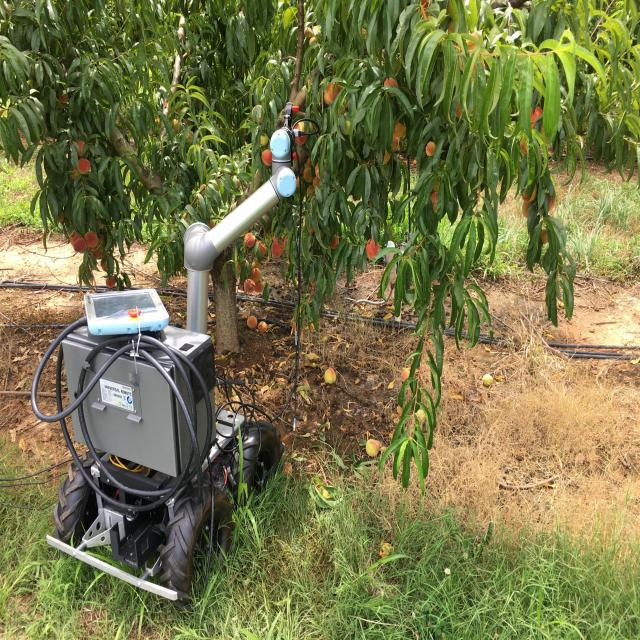peach: (321, 0, 564, 277)
